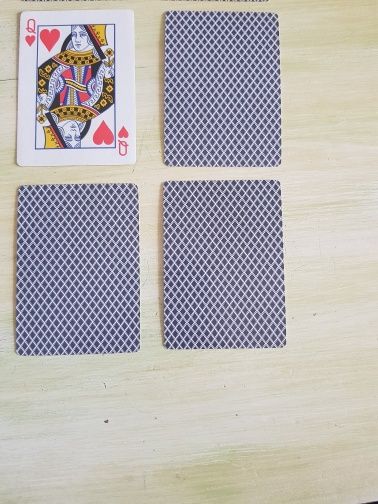queen: (15, 7, 138, 168)
